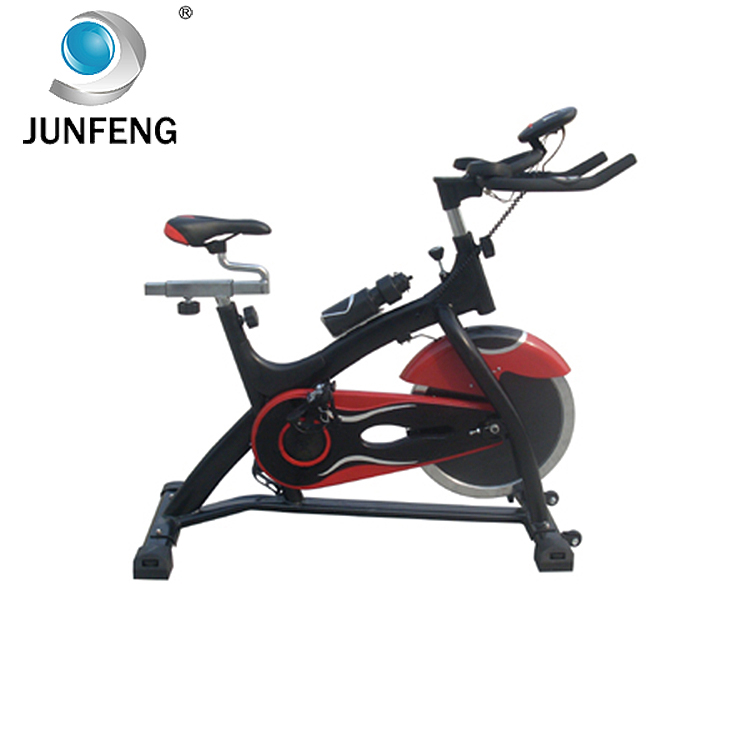gym_bike: (129, 105, 648, 586)
